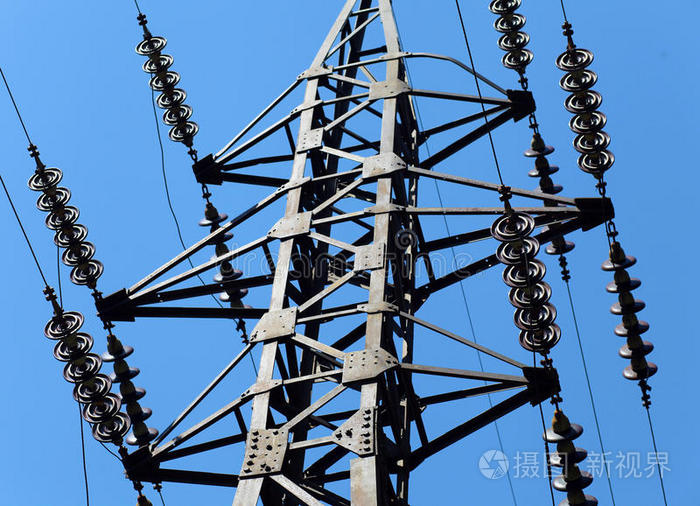insulator: (42, 310, 129, 440), (492, 213, 564, 352), (26, 165, 105, 286), (601, 251, 664, 382), (556, 48, 615, 172), (134, 34, 198, 141), (103, 344, 158, 446), (197, 209, 252, 309), (528, 142, 575, 254), (546, 421, 596, 506), (490, 1, 536, 70)
